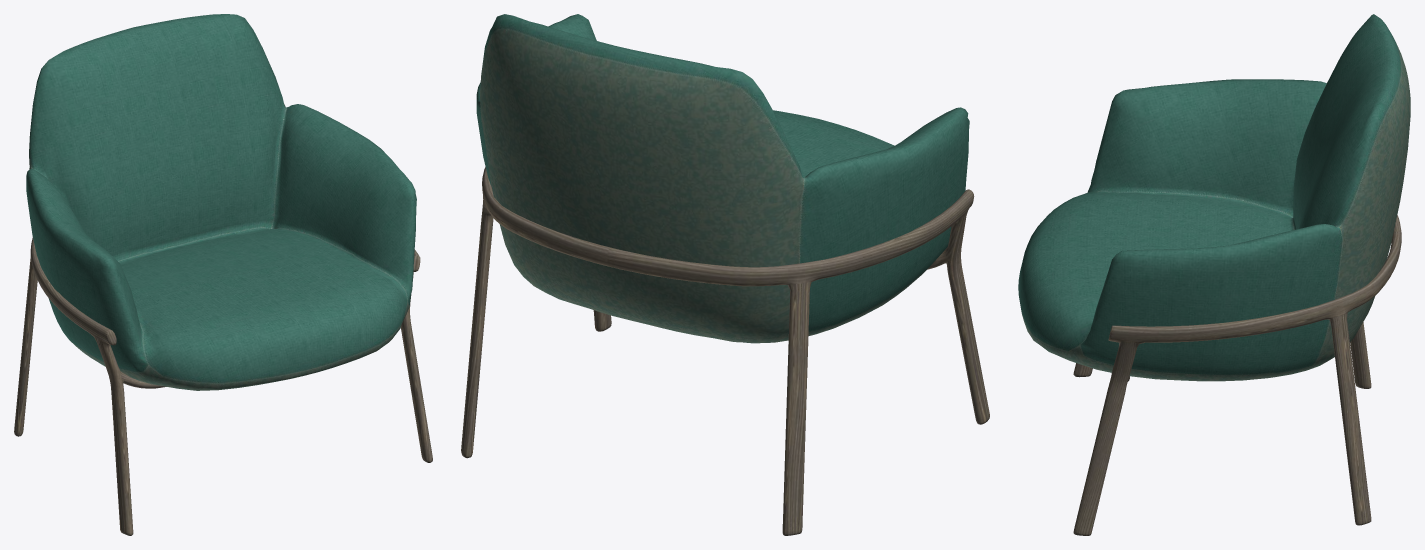
The picture shows the model from 3 angles, left to right: view 1: azimuth 30°, elevation 25°; view 2: azimuth 150°, elevation 25°; view 3: azimuth 270°, elevation 25°; orthographic projection. The views are drawn at different scales.
Visible parts, largest first — view 1: geo1_low, geo2_low; view 2: geo1_low, geo2_low; view 3: geo1_low, geo2_low.
Boxes of the visible parts, x1,y1,x2,y2 form: geo1_low: (26, 14, 416, 390); geo2_low: (14, 237, 432, 535); geo1_low: (476, 14, 969, 343); geo2_low: (461, 167, 989, 535); geo1_low: (1018, 14, 1410, 381); geo2_low: (1073, 215, 1401, 535).
Bounding box in the file's own units: 0.7751 × 0.82 × 0.7377.
Materials: 1 (1 with a texture image).
